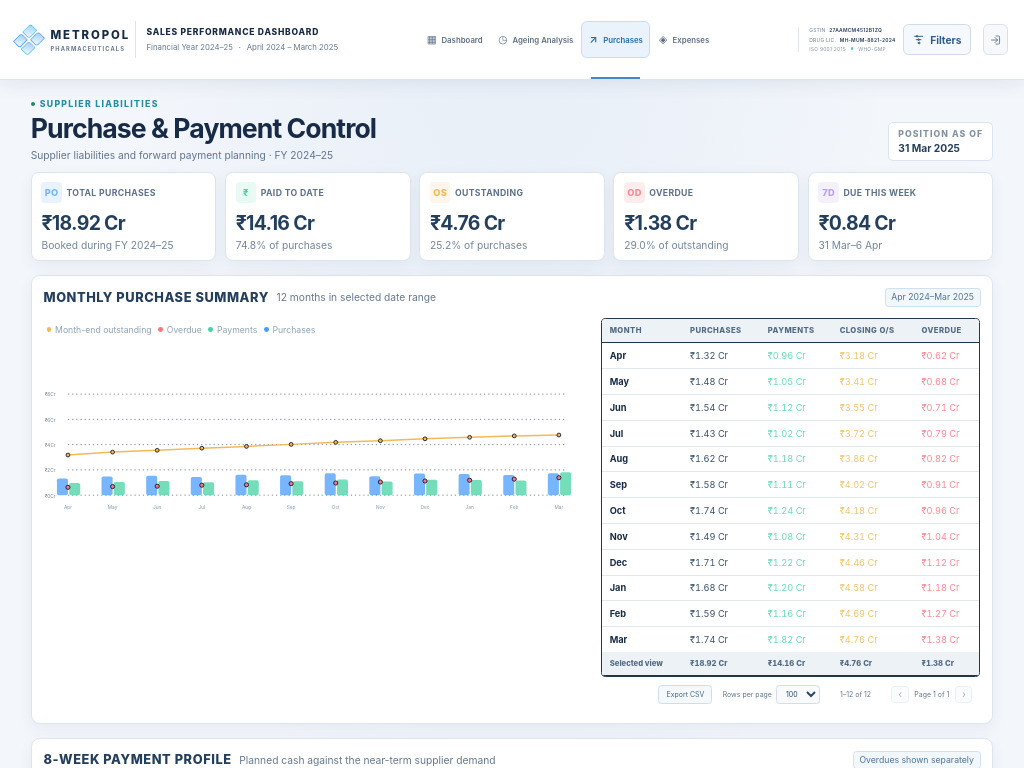
Test: Purchases filter narrows supplier rows and selected date months
Click the button with aria-label "open filters". click: click(937, 40)
box: [903,24,971,55]
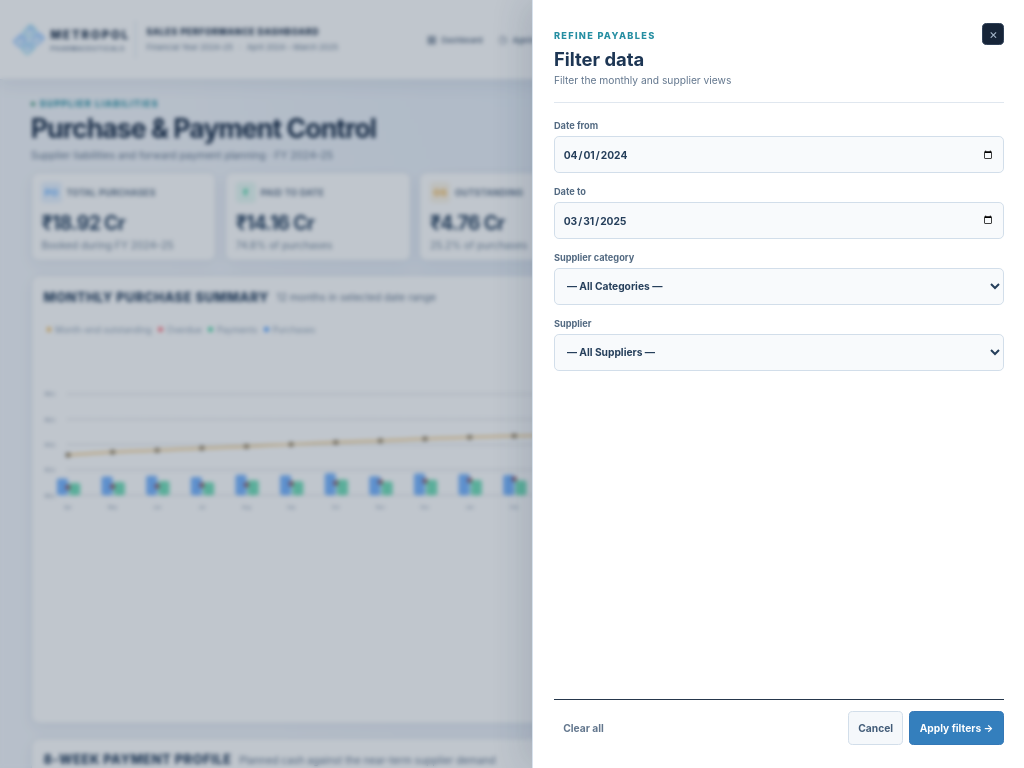
Select "Machinery" in the dropdown labelled "Supplier category". click: (779, 286)
box: [554,268,1004,305]
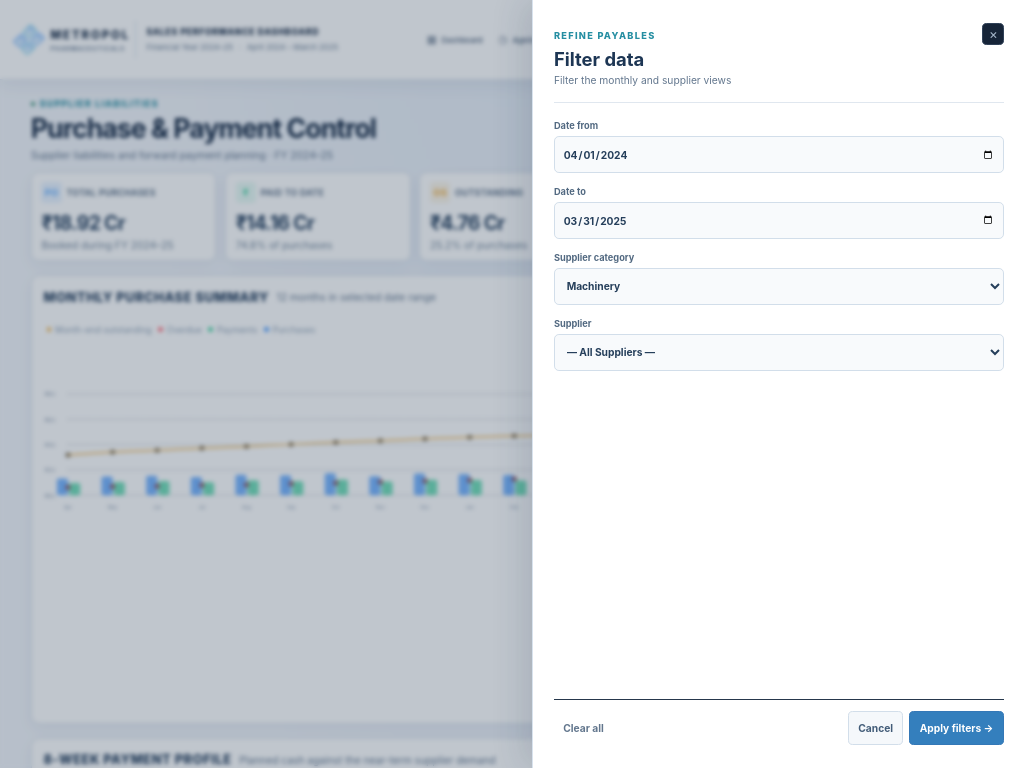
Type "2024-08-15" into the date field labelled "Date from". click: (779, 155)
box: [554,136,1004,173]
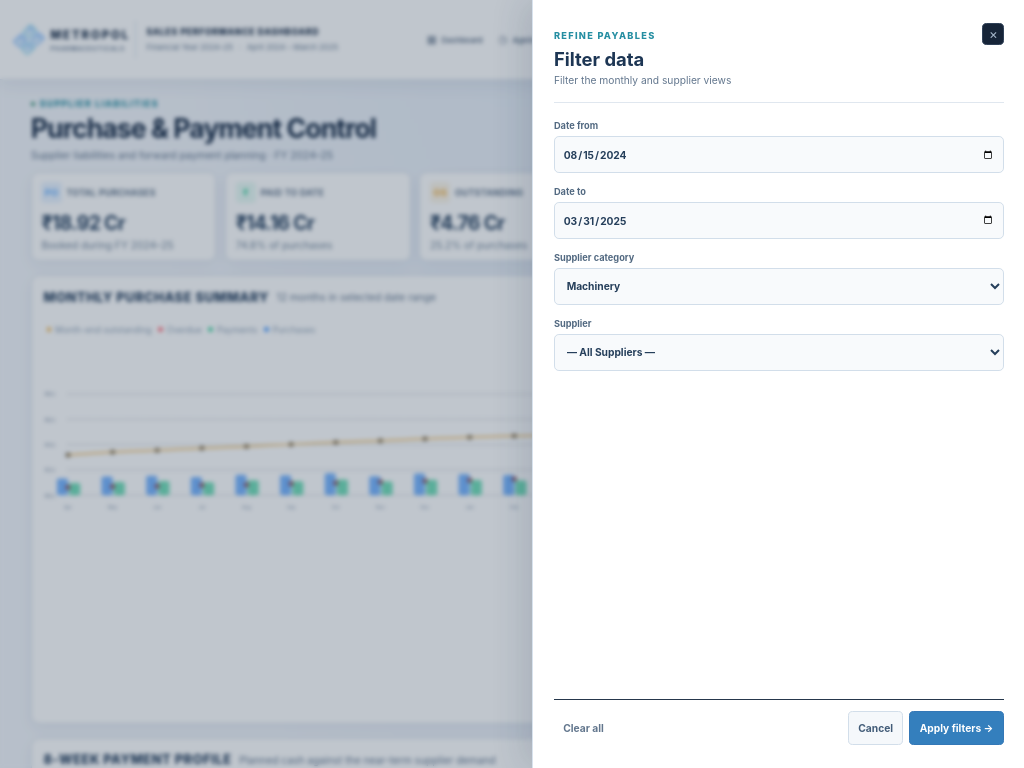
Type "2024-09-15" into the date field labelled "Date to". click: (779, 221)
box: [554,202,1004,239]
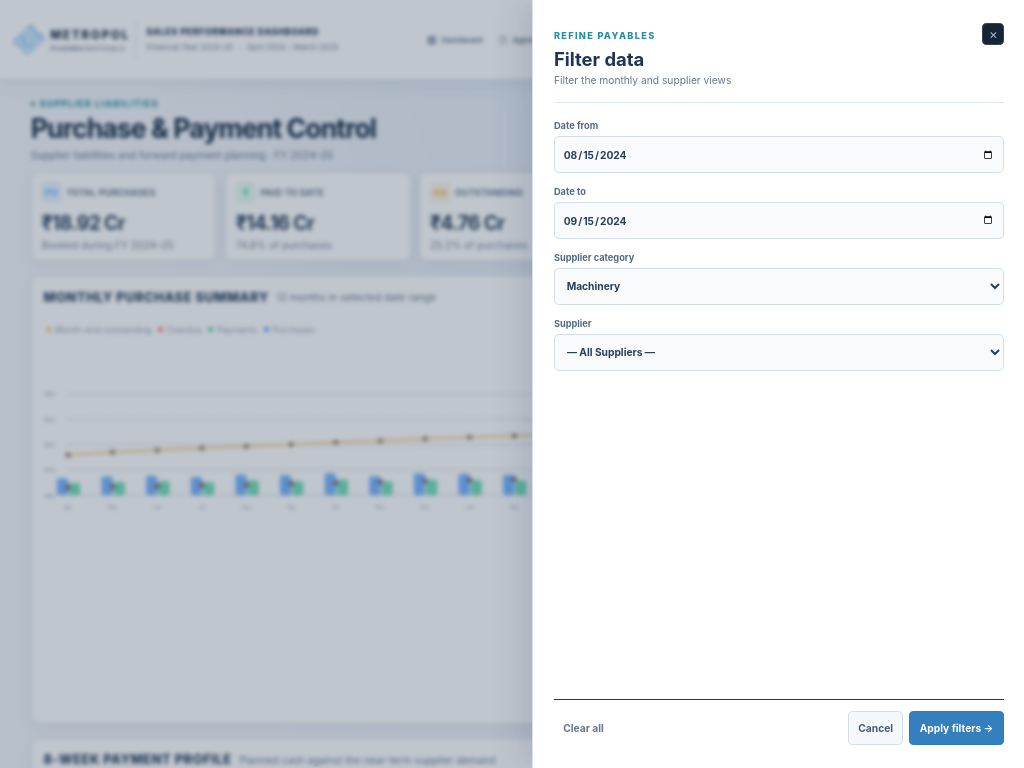
Click the button "Apply filters →". click: click(956, 728)
box: [909,711,1004,745]
(page scrolled)
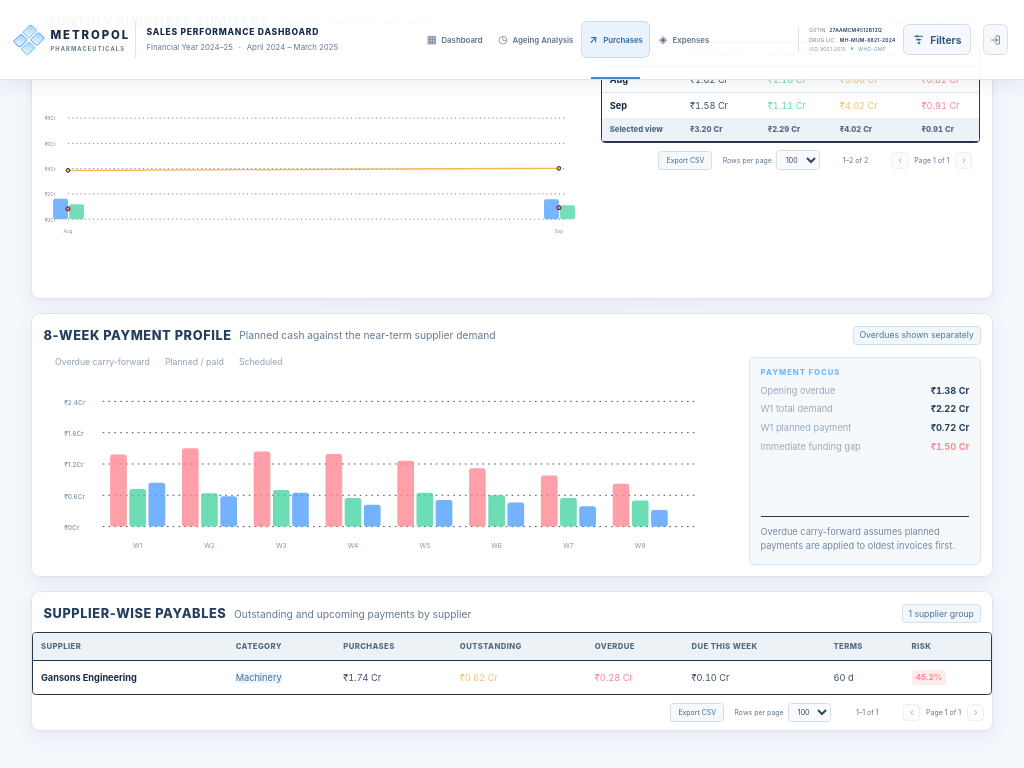
Expected: the text "2 months in selected date range" is shown, [276,15,432,27]
Now the text "1 supplier group" is shown, box [902,604,980,623]
